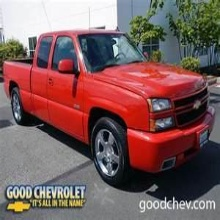no damage: (3, 30, 216, 184)
